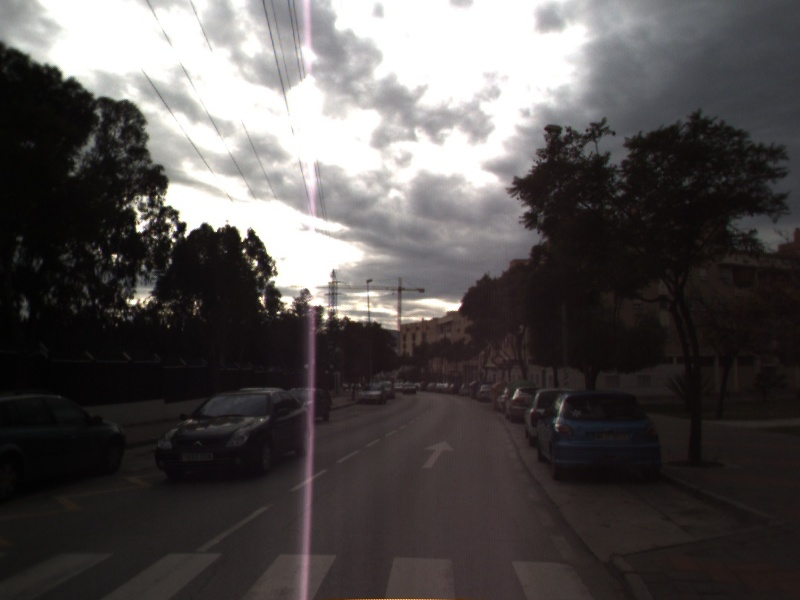STRAIGHT: (419, 439, 458, 471)
